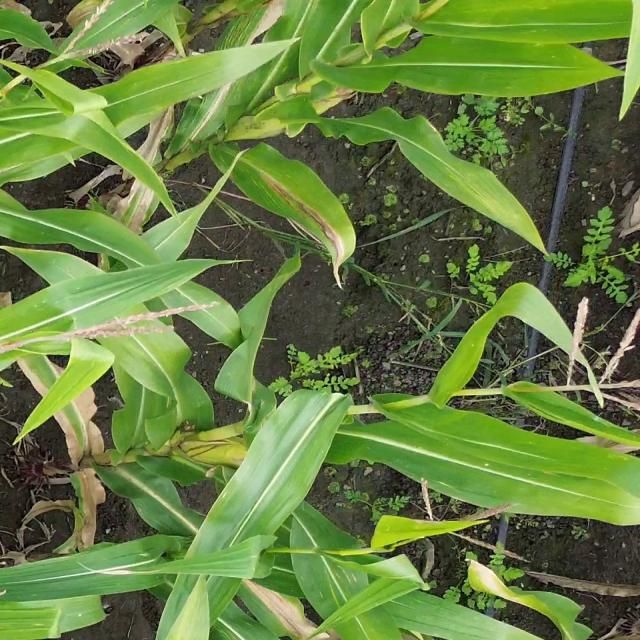gray-leaf-spot: (440, 165, 507, 210), (310, 556, 365, 602), (226, 8, 262, 62)
northern-leaf-blight: (261, 169, 350, 256), (235, 576, 320, 640), (472, 568, 564, 614), (186, 86, 224, 144)
